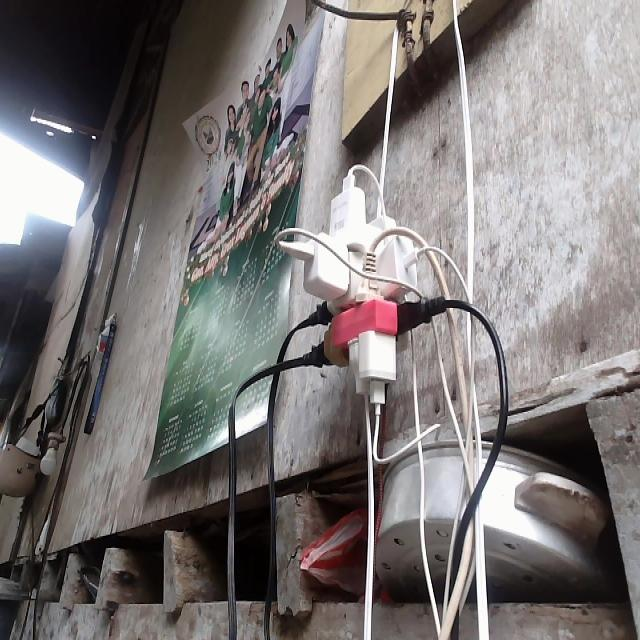-: (270, 162, 451, 418)
